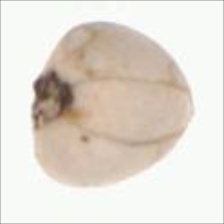L5: (70, 75, 195, 145), (30, 68, 76, 134)
L6: (30, 21, 196, 189)
